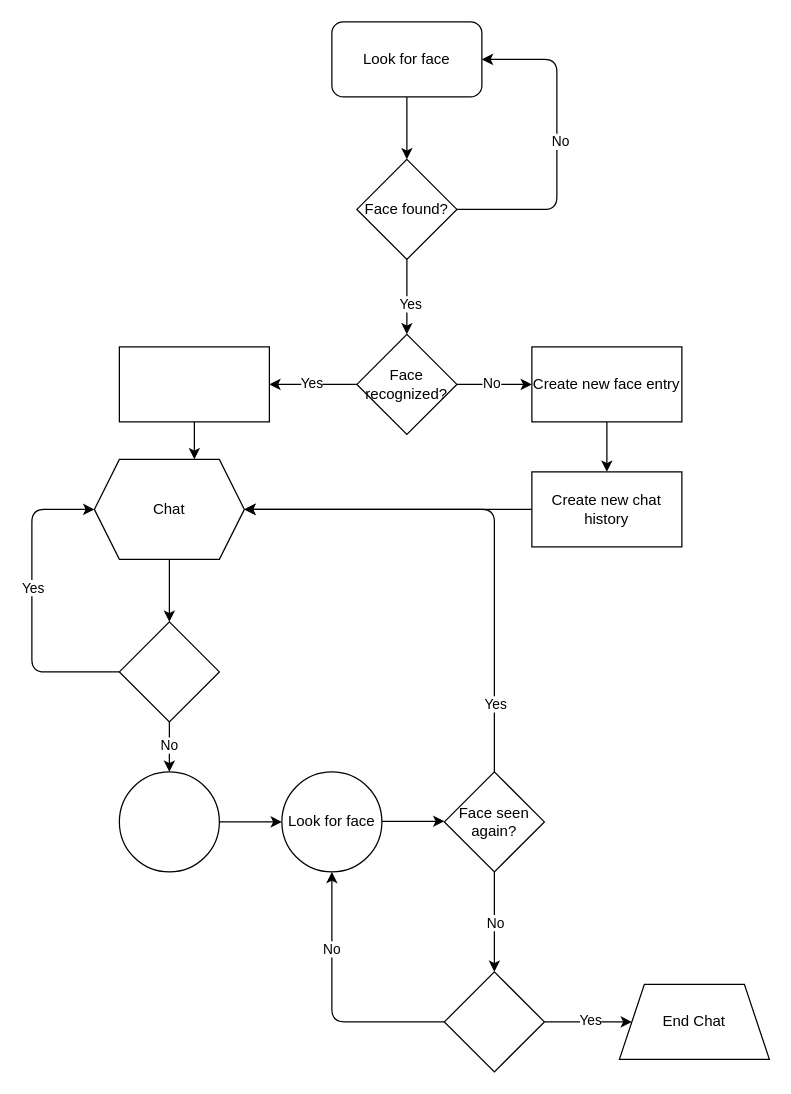
Image size: 791x1094. Some labels were removed from this diagram. Each missing label, with the centre of its shape:
Face still there?: the point at 168,671
Has it been one minute?: the point at 493,1021
Open chat history: the point at 193,384
Start timer: the point at 168,821
